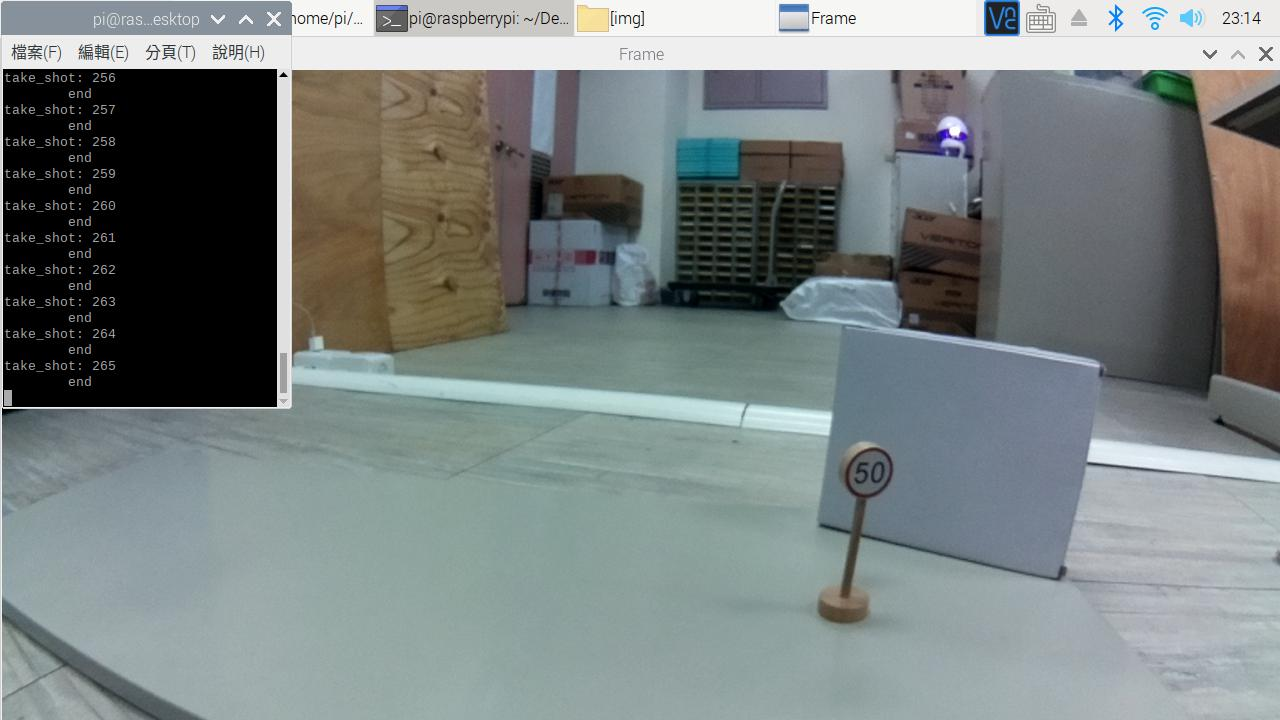Speed50: (817, 430, 914, 522)
